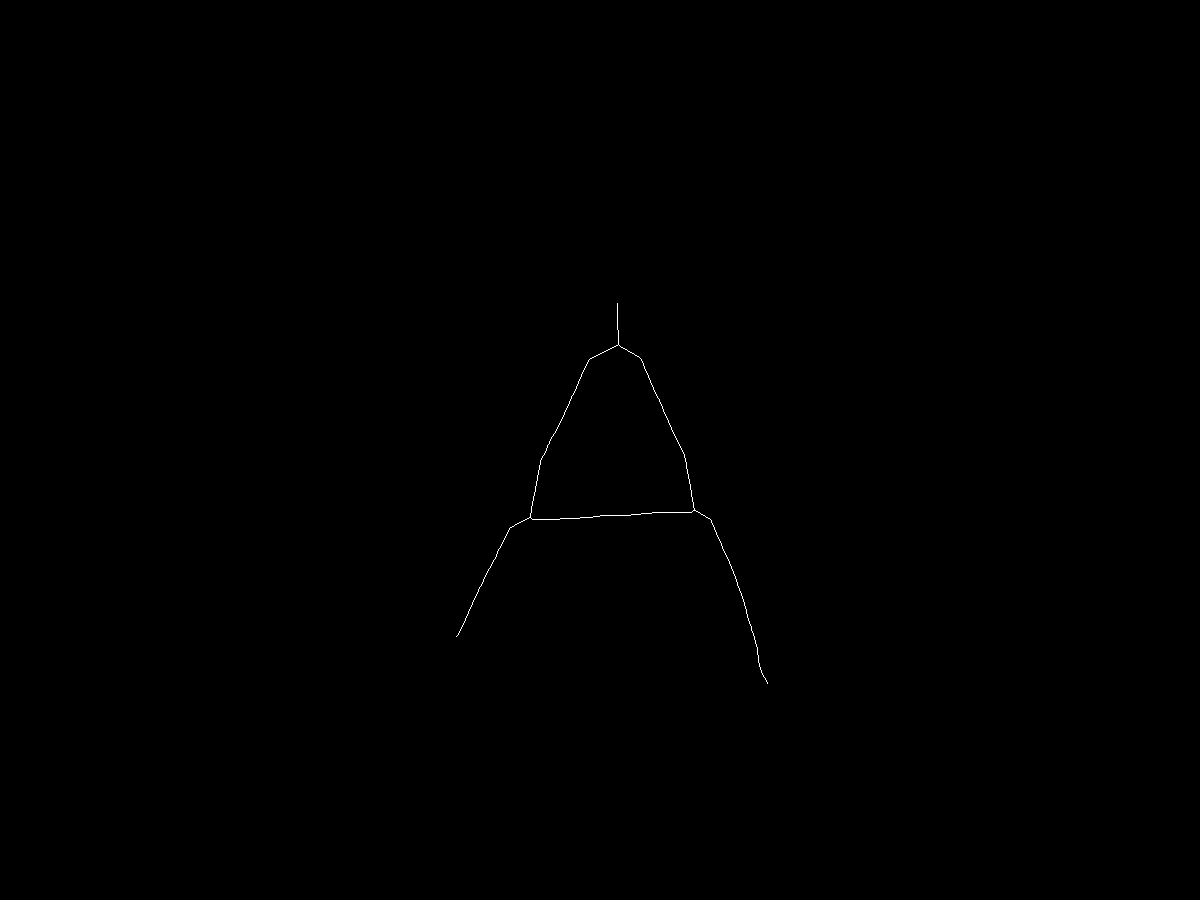dian1: (612, 341, 627, 356)
dian2: (525, 510, 541, 526)
dian3: (452, 625, 467, 640)
dian4: (683, 503, 701, 521)
dian5: (757, 675, 776, 694)
